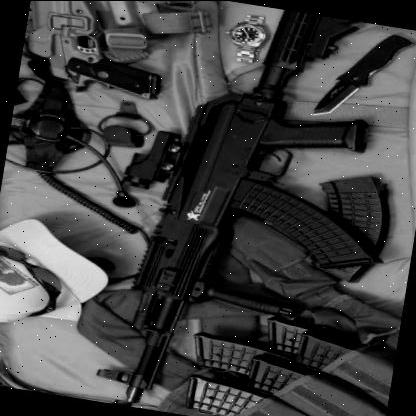rifle: (88, 0, 416, 416)
